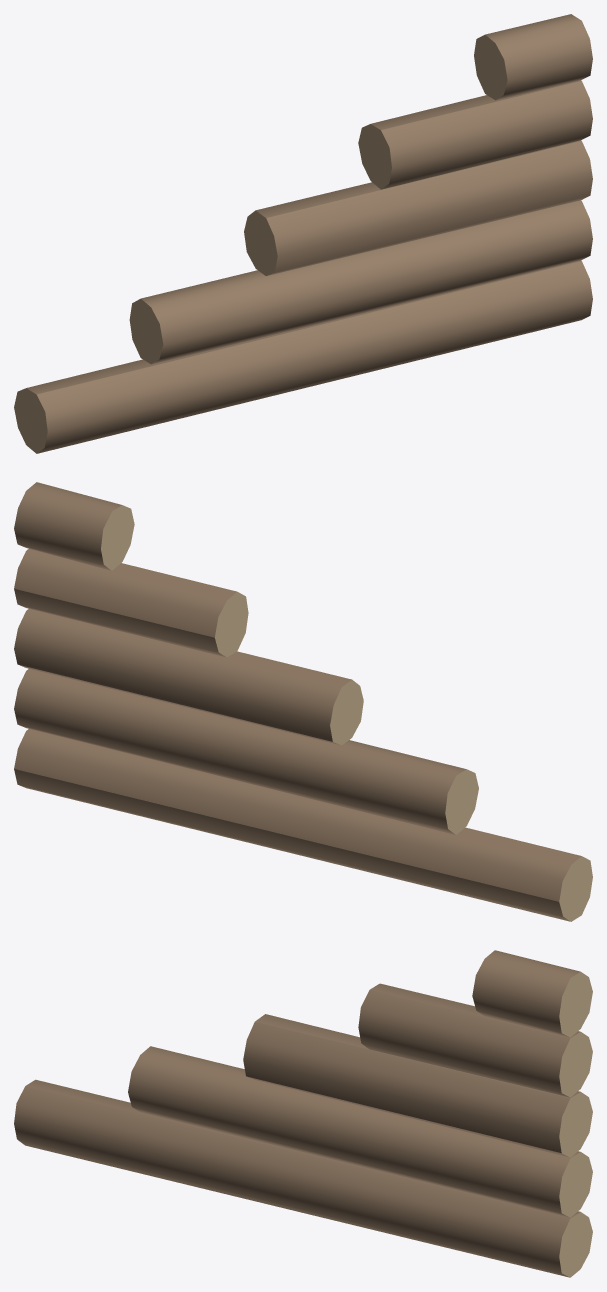
Rendered from log_gable_low.glb.
The picture shows the model from 3 angles, top to bottom: view 1: azimuth 30°, elevation 25°; view 2: azimuth 150°, elevation 25°; view 3: azimuth 330°, elevation 25°; orthographic projection.
Visible parts, largest first — view 1: Wall; view 2: Wall; view 3: Wall.
Boxes of the visible parts, x1=… form: Wall: x1=14, y1=14, x2=592, y2=453; Wall: x1=14, y1=482, x2=592, y2=921; Wall: x1=14, y1=950, x2=592, y2=1277.
Size of the model in its own units: 2.85 by 1.5 by 0.3143.
